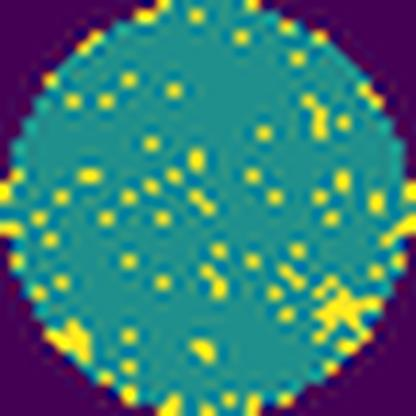Loc: (310, 275, 368, 344)
